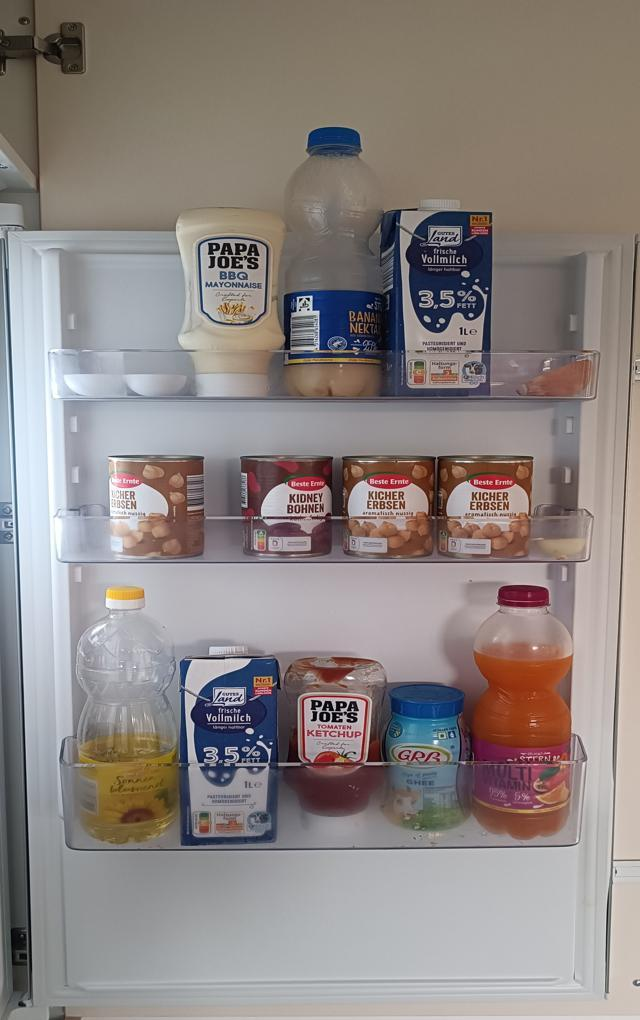bananajuice: (282, 126, 392, 401)
chickpeas: (109, 456, 207, 559), (342, 453, 436, 559), (436, 456, 534, 556)
ghee: (379, 682, 475, 832)
kidneybeans: (242, 454, 333, 560)
mayoniasie: (174, 207, 286, 399)
milk: (383, 197, 496, 402), (179, 646, 282, 844)
oil: (76, 585, 179, 847)
orangejuice: (468, 586, 579, 842)
tomatoketchup: (281, 653, 388, 834)
